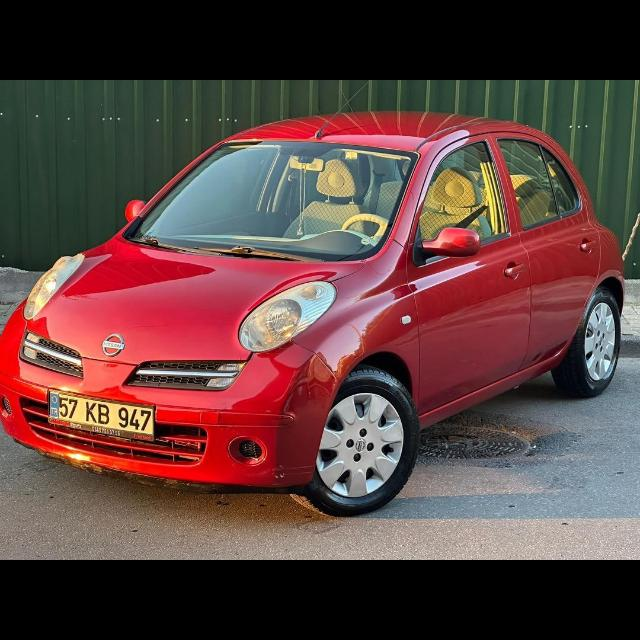Plaka: (49, 391, 155, 435)
